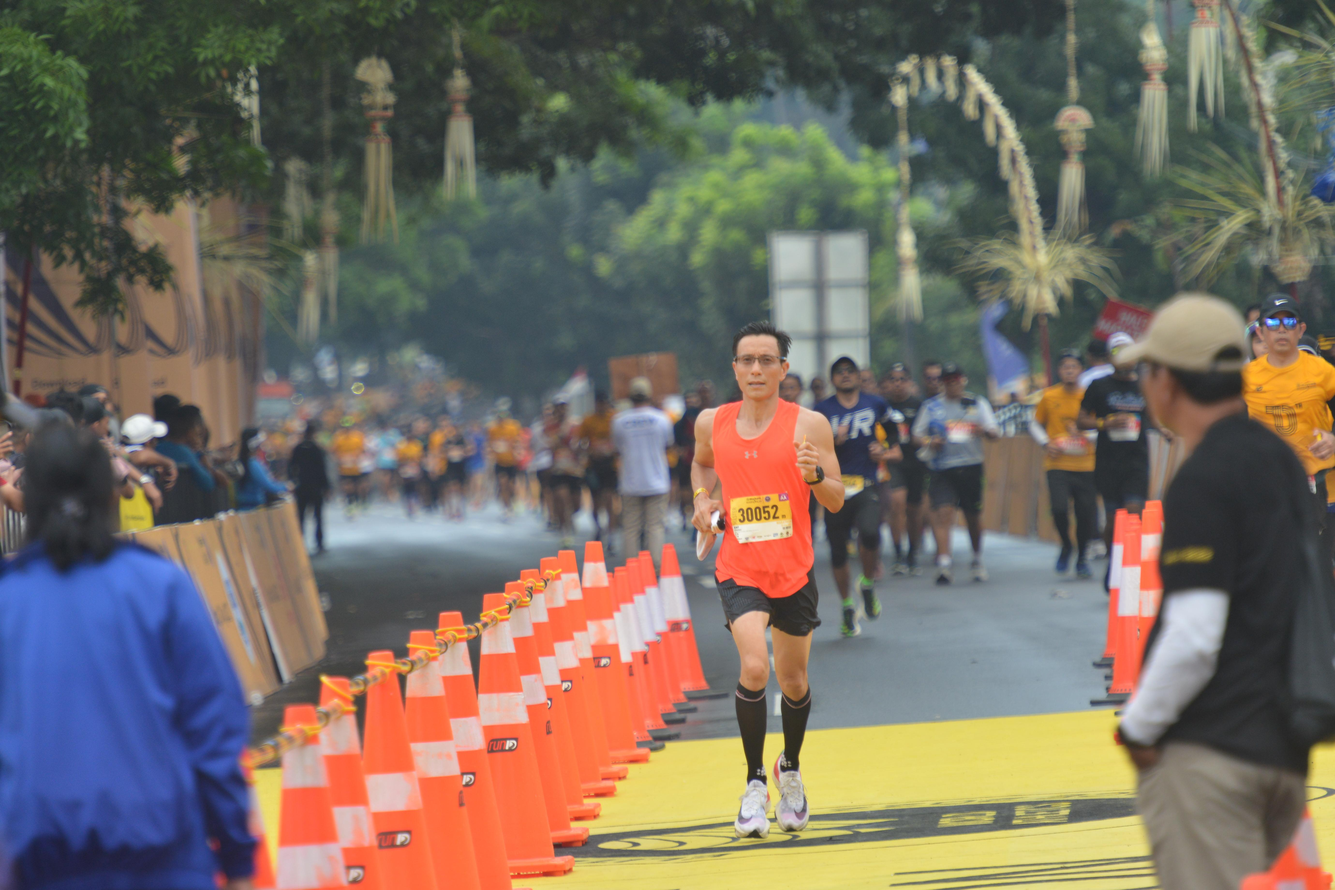bib: (730, 494, 792, 545), (1056, 435, 1086, 455), (842, 472, 862, 500), (947, 422, 974, 441), (1112, 423, 1140, 441)
